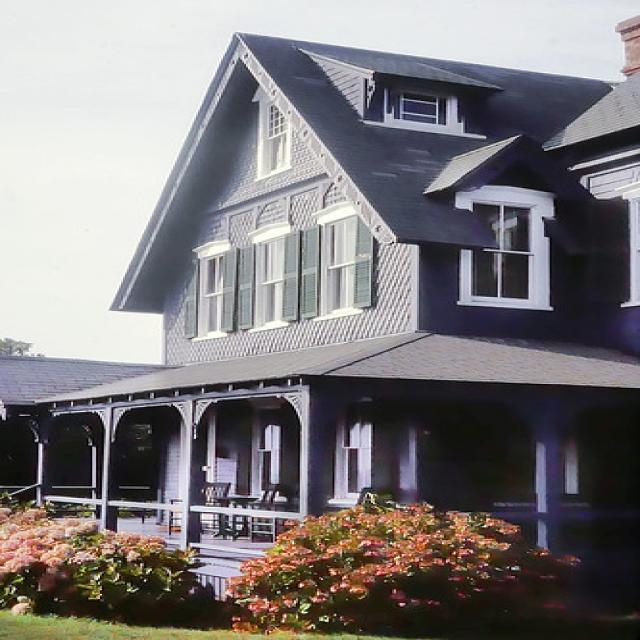building: (19, 26, 640, 608)
